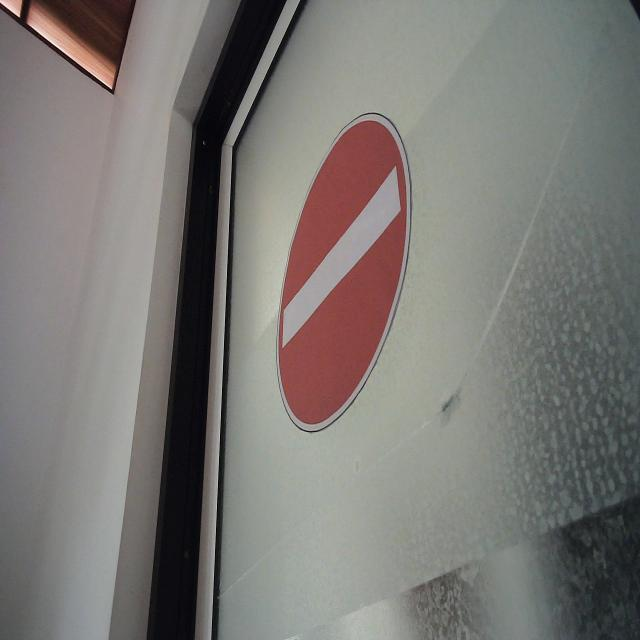no_entry: (274, 109, 414, 437)
